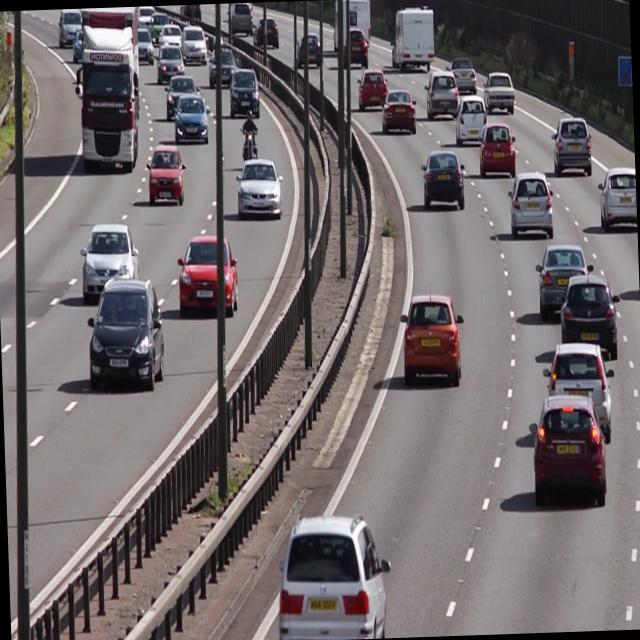Vehicle: (270, 512, 391, 640), (74, 6, 146, 170), (84, 278, 164, 394), (528, 400, 610, 504), (394, 289, 466, 387), (544, 340, 611, 445), (554, 270, 618, 368), (172, 230, 238, 324), (532, 240, 594, 322), (76, 223, 140, 300), (504, 168, 556, 242), (388, 4, 436, 72), (234, 155, 284, 220), (418, 145, 465, 214), (144, 142, 188, 208), (596, 166, 637, 234), (548, 115, 592, 176), (478, 120, 517, 178), (379, 86, 416, 138), (422, 70, 458, 120), (478, 68, 514, 116), (453, 94, 486, 146), (204, 40, 236, 90), (354, 68, 390, 112), (226, 70, 260, 116), (174, 93, 206, 139), (336, 29, 369, 72), (153, 45, 185, 86), (163, 77, 191, 118)
